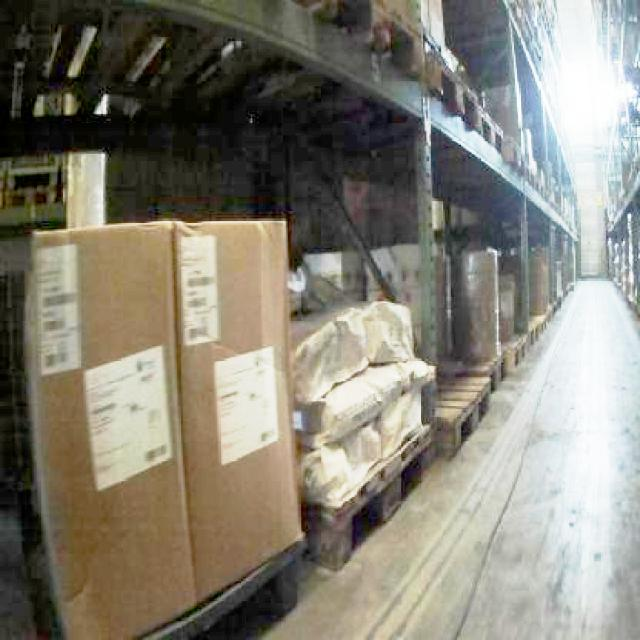ground: (240, 275, 638, 638)
pallet: (288, 0, 580, 571), (22, 215, 306, 638), (412, 3, 578, 458), (289, 297, 437, 571), (429, 245, 562, 457), (600, 0, 638, 638), (300, 422, 435, 571), (431, 369, 492, 455)
